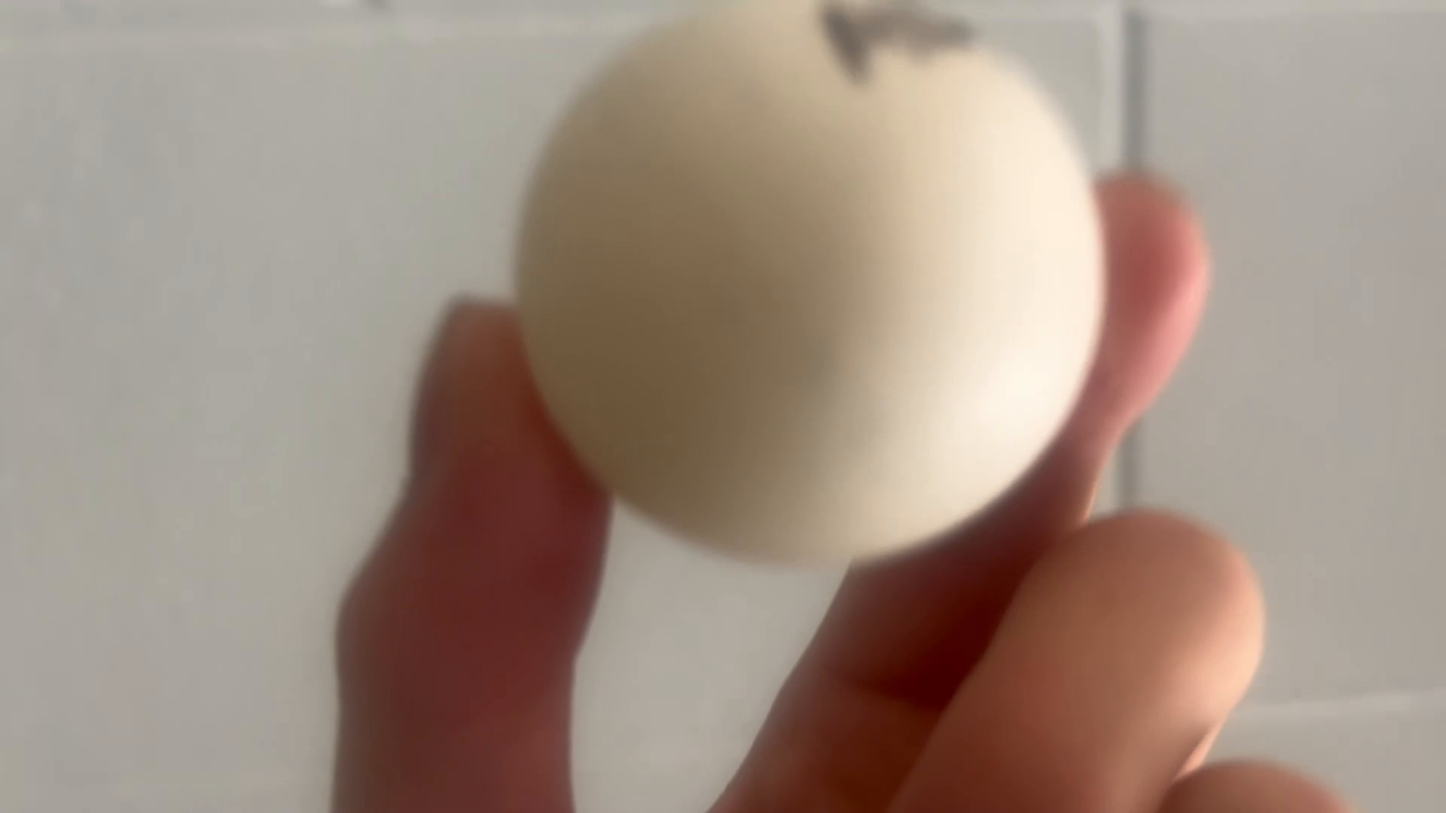Ball: (510, 5, 1102, 581)
